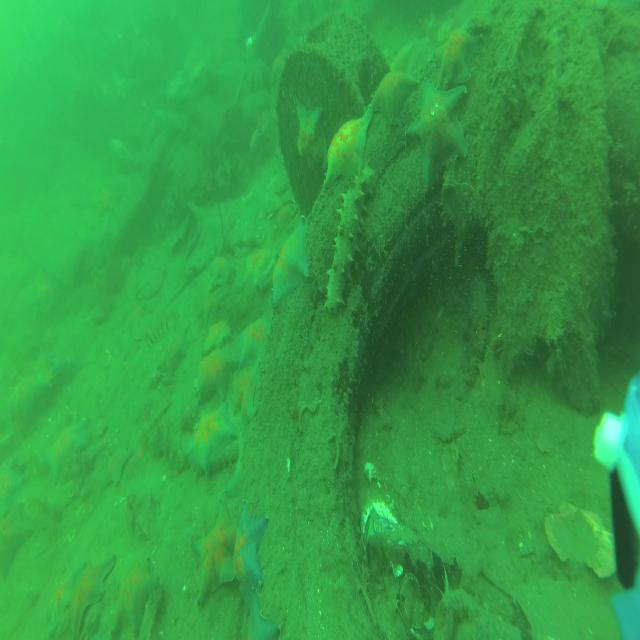holothurian: (323, 161, 372, 312)
scallop: (544, 498, 621, 582), (136, 270, 168, 297), (257, 193, 279, 217), (270, 174, 289, 193)
starfish: (407, 80, 468, 188), (194, 502, 239, 609), (322, 101, 374, 189), (12, 357, 78, 423), (183, 404, 237, 479), (72, 554, 117, 640), (112, 556, 157, 640), (272, 215, 309, 308), (231, 500, 268, 589), (435, 19, 481, 90), (50, 560, 90, 640), (228, 358, 260, 457), (292, 97, 328, 176), (368, 71, 422, 120), (46, 425, 87, 485), (193, 345, 232, 398), (99, 437, 136, 490), (0, 460, 28, 527), (238, 315, 270, 365), (76, 184, 120, 220), (154, 329, 187, 376), (247, 594, 279, 640), (246, 252, 280, 292), (27, 273, 58, 311), (208, 257, 238, 291), (202, 321, 232, 352)
